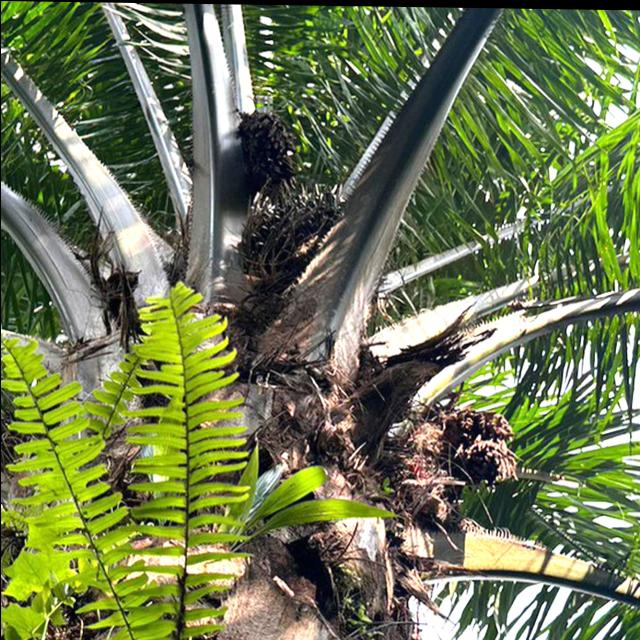ripe: (237, 173, 342, 298)
